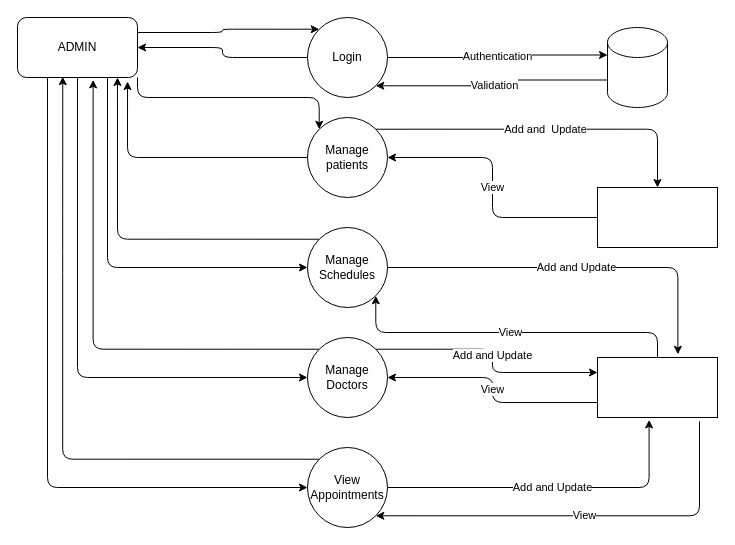
This 735x545 diagram has some shape labels left out. Here are the shapes that lost their labels. From the top down, the centre of each, then its label:
point (637, 67): Doctor
point (657, 217): Patient and Schedule list
point (657, 387): Doctors and Appointment List
